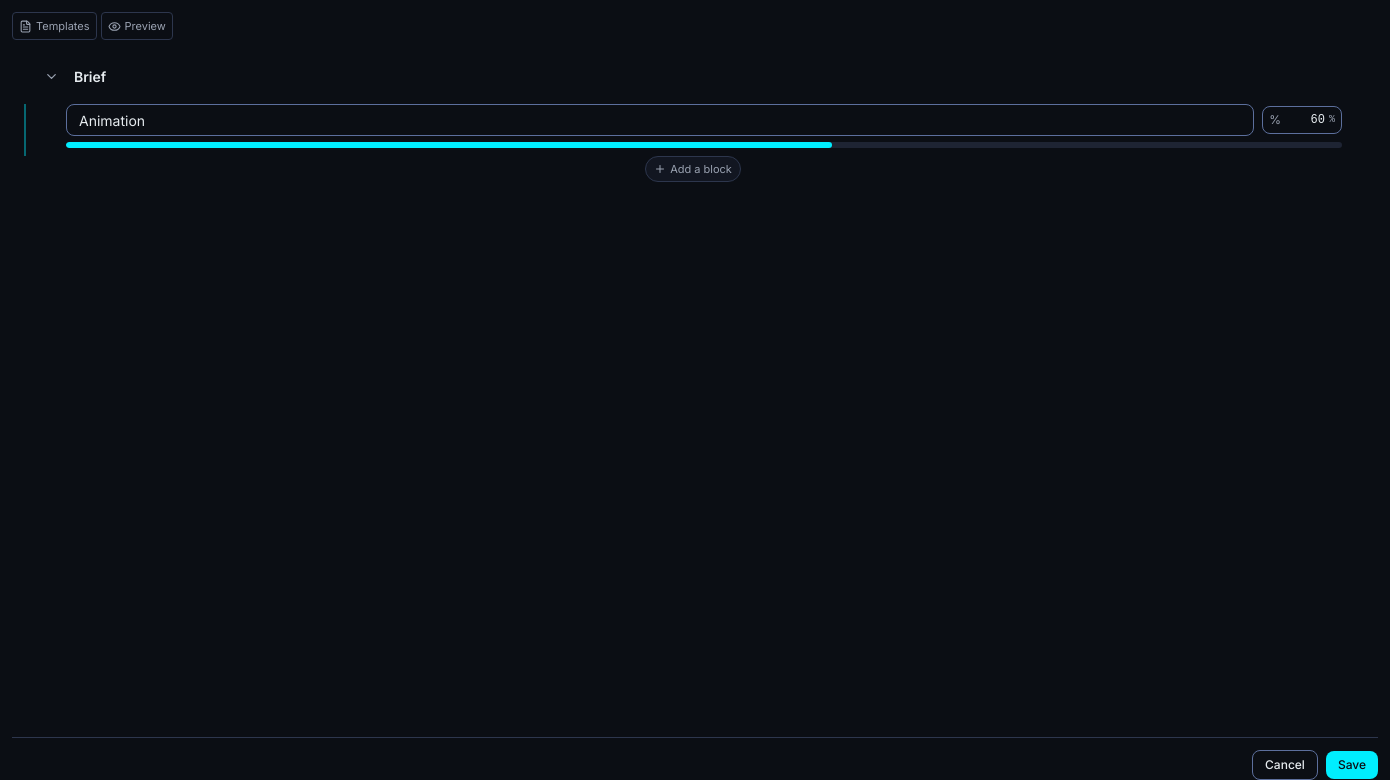
Scenario: NoteEditor › switches to preview: the note is read there as it will be read
Click the button "Preview" at (137,26), box [101,12,173,40]
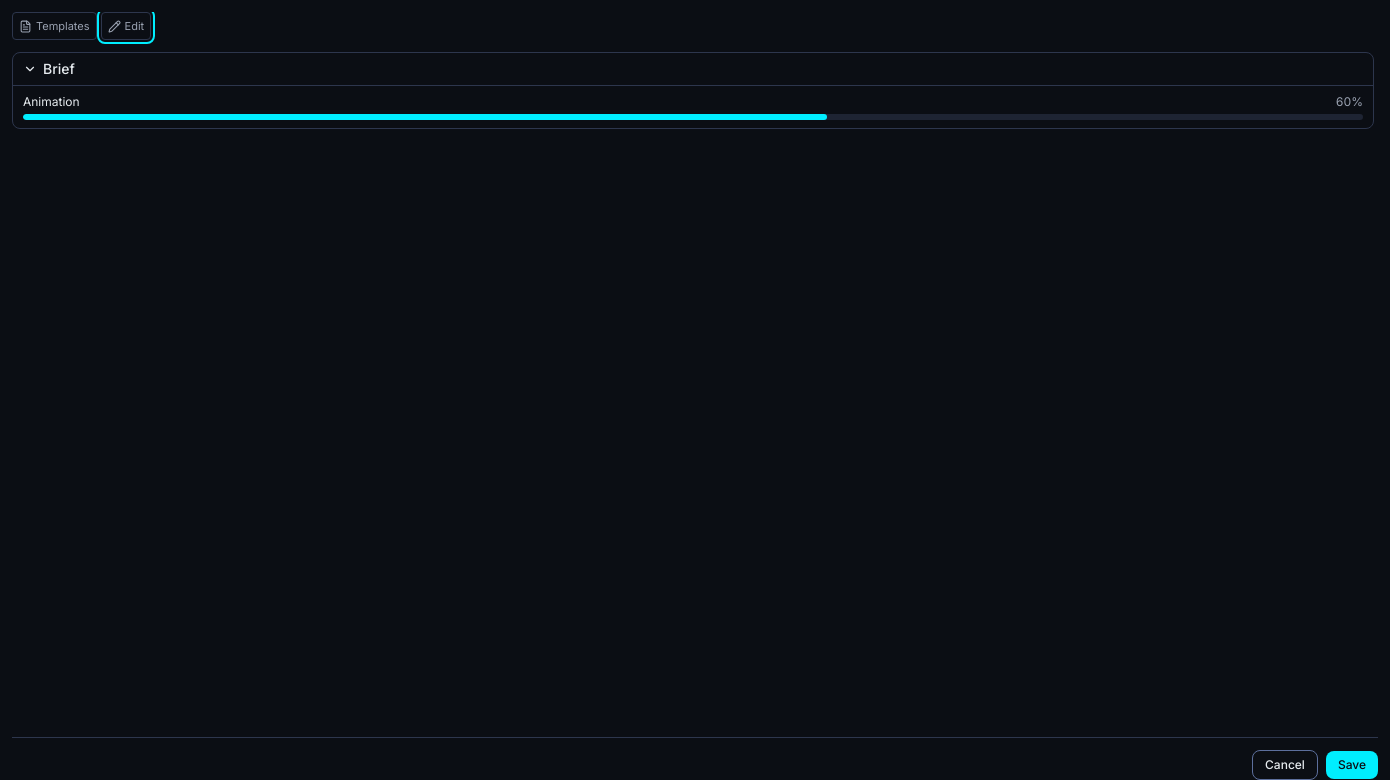
Check: the field is gone
